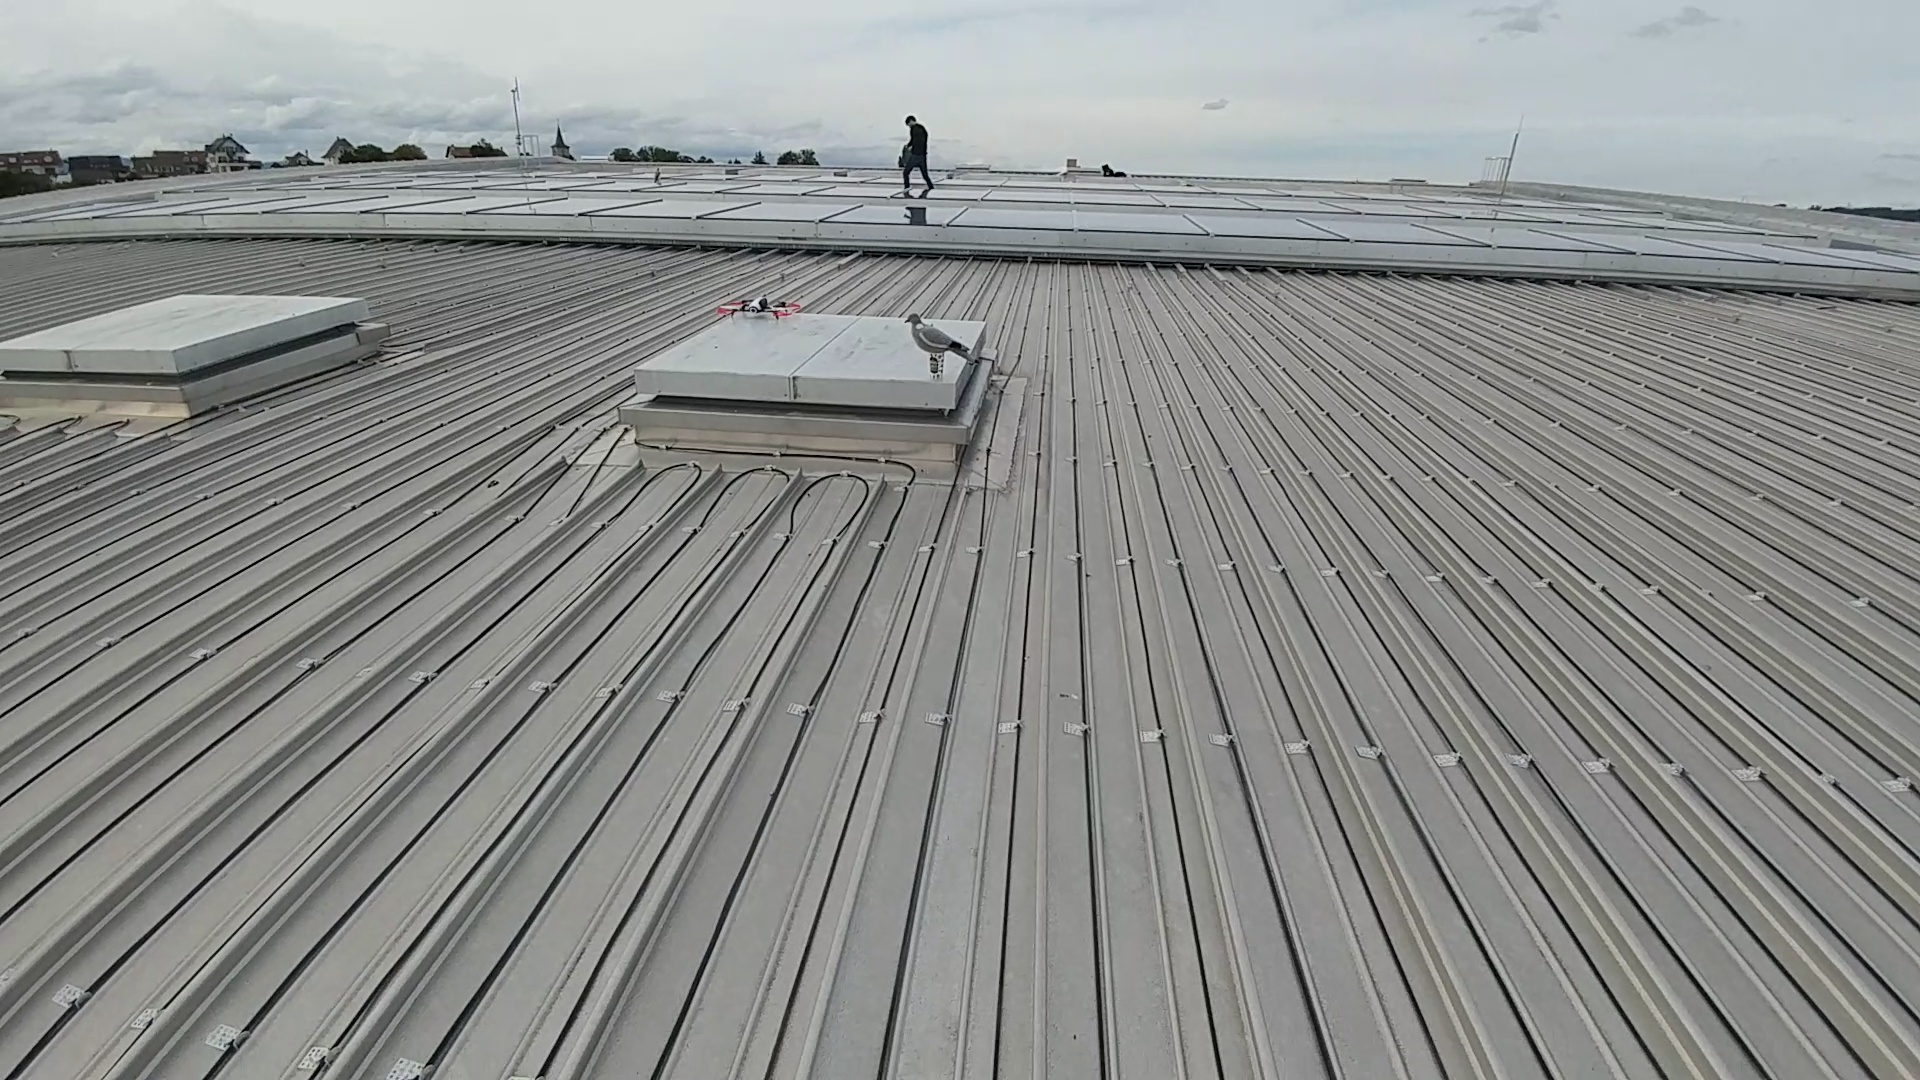Pigeon: (901, 313, 971, 357)
